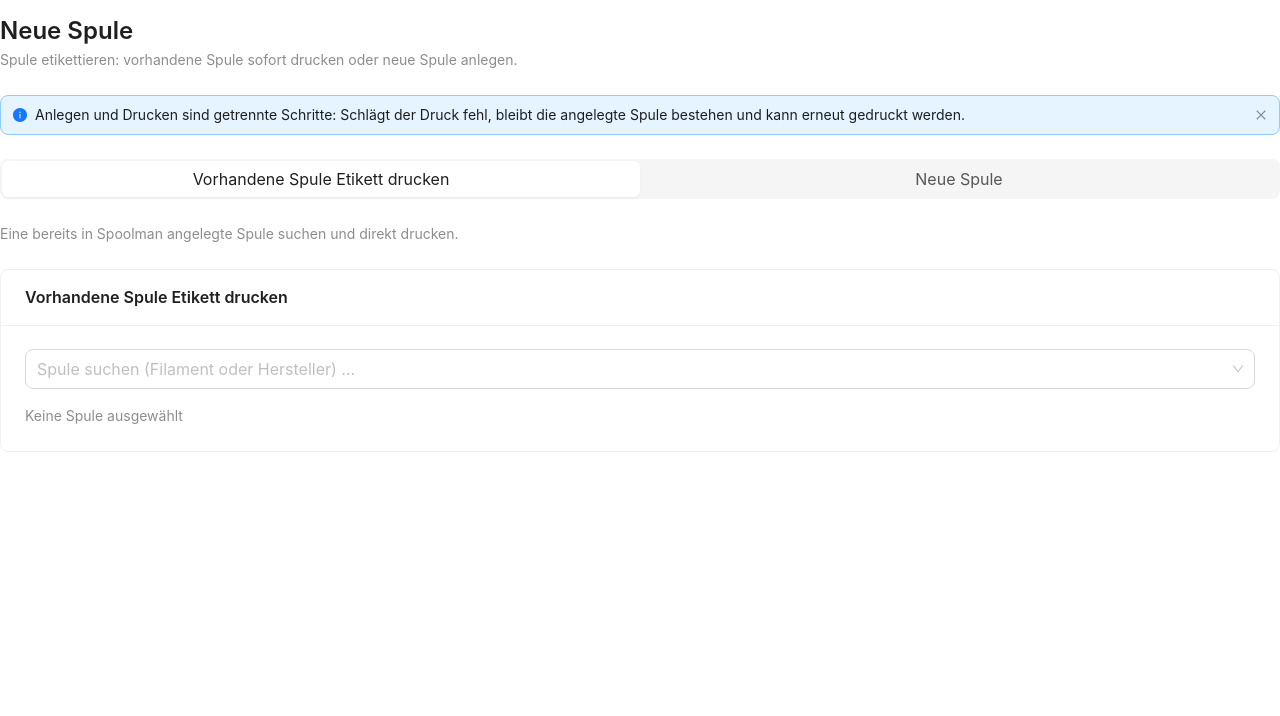
Scenario: NewSpoolPage – neue Spule › stapelt Zahlenfelder mit Beschriftung auf dem Handy statt addonBefore
Expected: the heading "Neue Spule" is shown, left=0, top=16, right=133, bottom=45
Click the radio button labelled "Neue Spule" at coordinates (959, 179), box left=915, top=169, right=1003, bottom=189
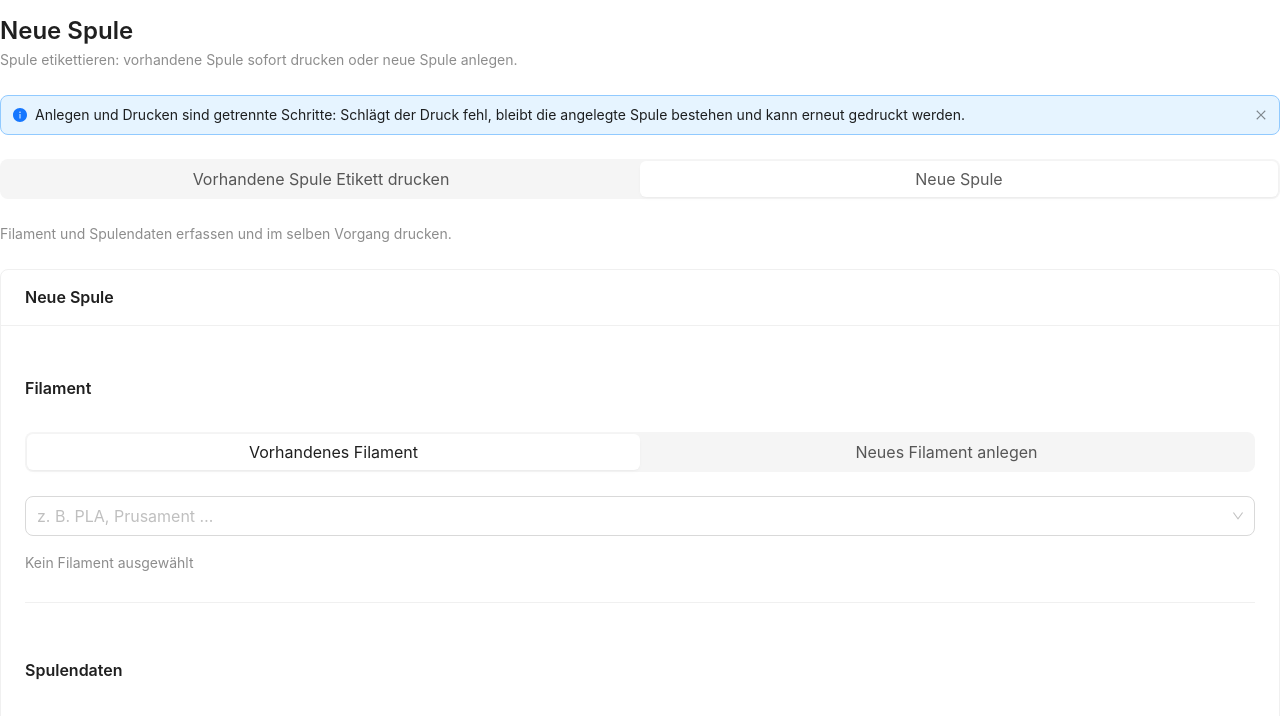
Click the radio button labelled "Neues Filament anlegen" at coordinates (947, 452), box left=856, top=442, right=1038, bottom=462
(page scrolled)
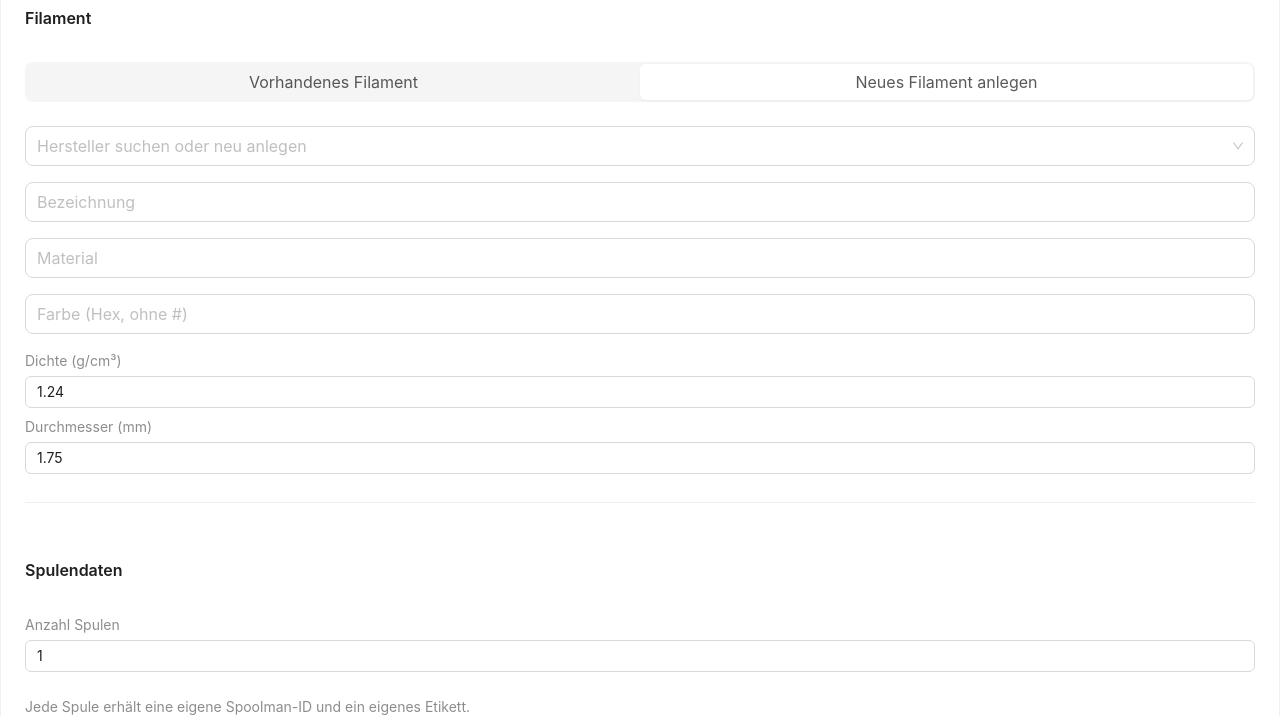
Expected: the text "Dichte (g/cm³)" is shown, left=25, top=352, right=122, bottom=369
